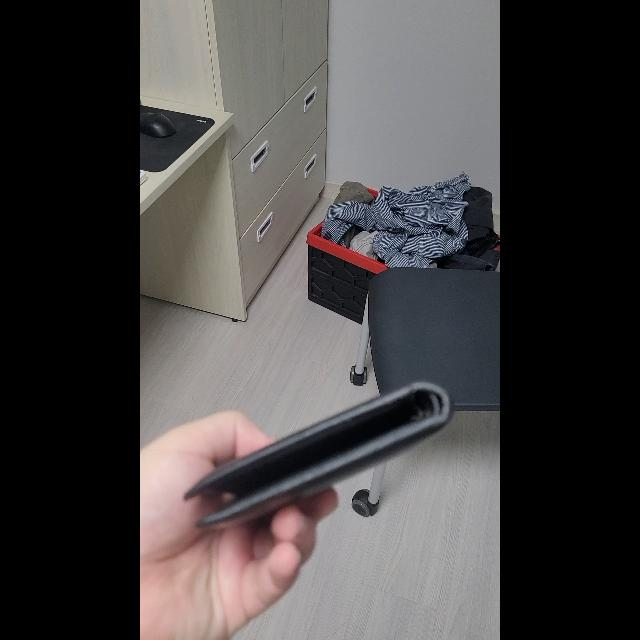WALLET: (182, 381, 452, 531)
